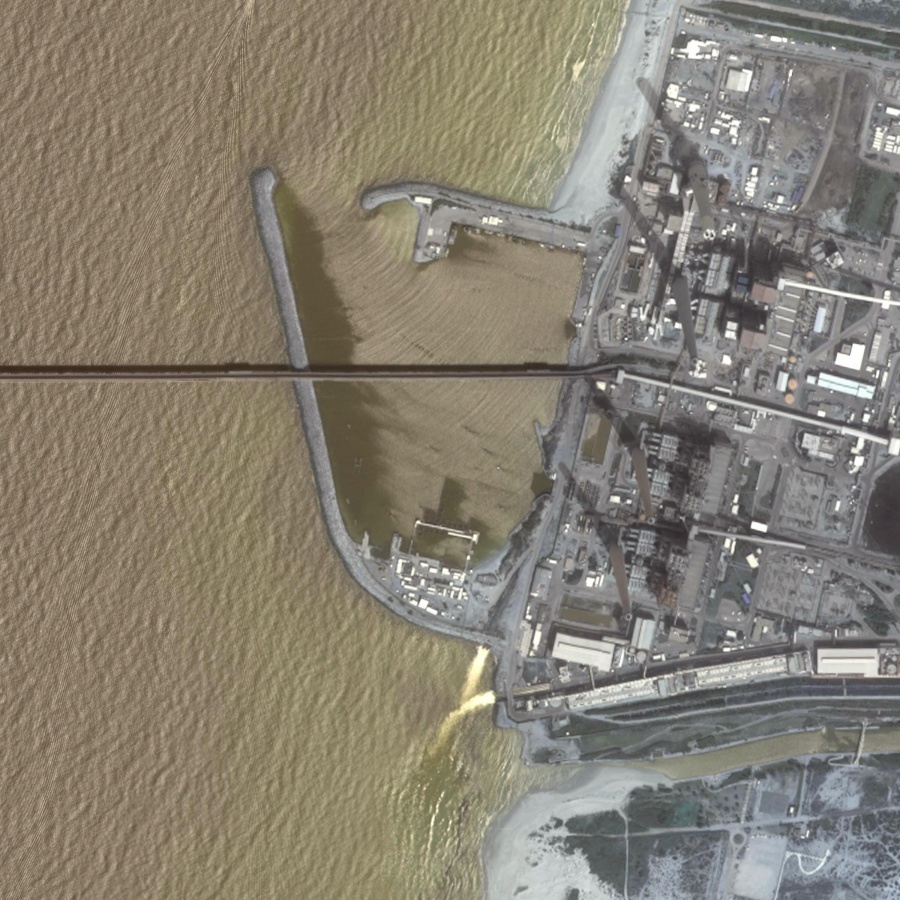PowerPlant: (525, 207, 786, 628)
